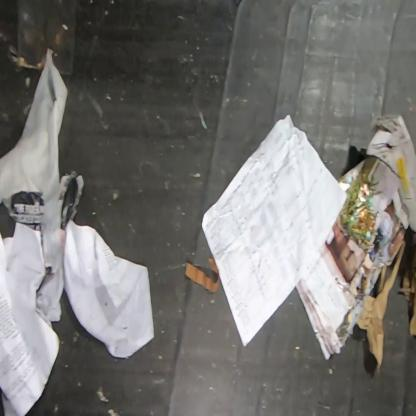cardboard: (366, 114, 416, 276), (397, 232, 415, 337)
rigid_plastic: (16, 0, 78, 77)
